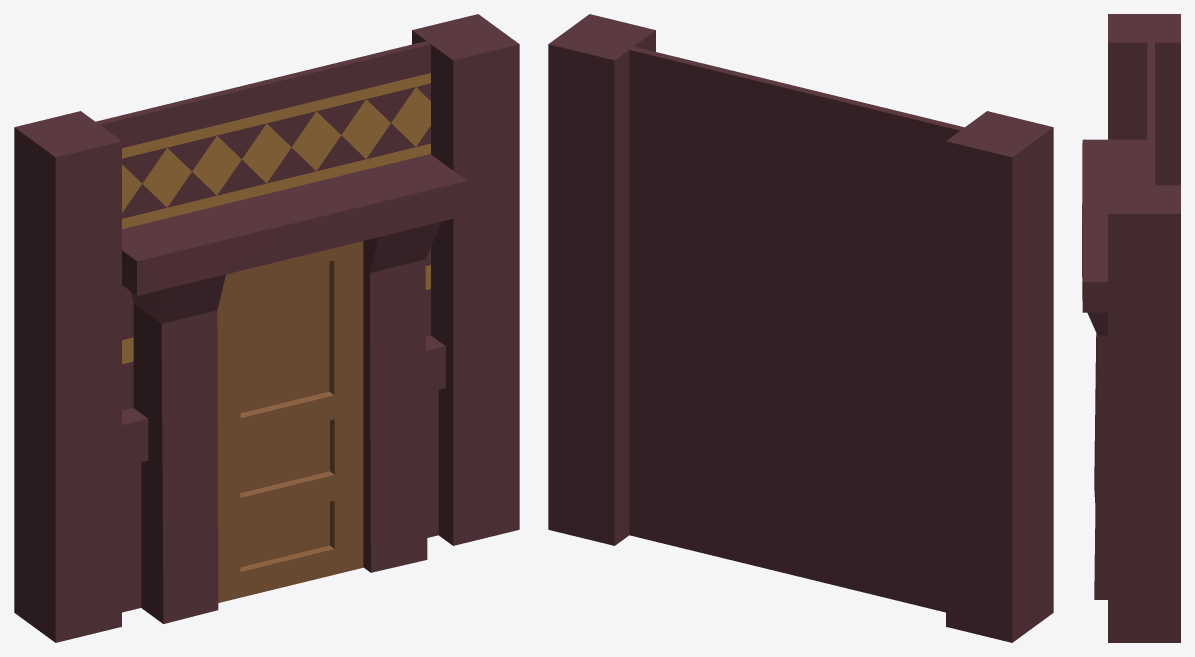
Rendered from SM_Wall_Door_3x3m_Empire.fbx.
The picture shows the model from 3 angles, left to right: view 1: azimuth 30°, elevation 25°; view 2: azimuth 150°, elevation 25°; view 3: azimuth 270°, elevation 25°; orthographic projection. The views are drawn at different scales.
Parts seen in each view (by area): view 1: SM_Wall_Door_3x3m_Empire; view 2: SM_Wall_Door_3x3m_Empire; view 3: SM_Wall_Door_3x3m_Empire.
Part boxes in pixels (box(x1,y1,x2,y2)): SM_Wall_Door_3x3m_Empire: box(14, 14, 519, 642); SM_Wall_Door_3x3m_Empire: box(548, 14, 1053, 642); SM_Wall_Door_3x3m_Empire: box(1082, 14, 1180, 642).
Size of the model in its own units: 3 by 3 by 0.6259.
